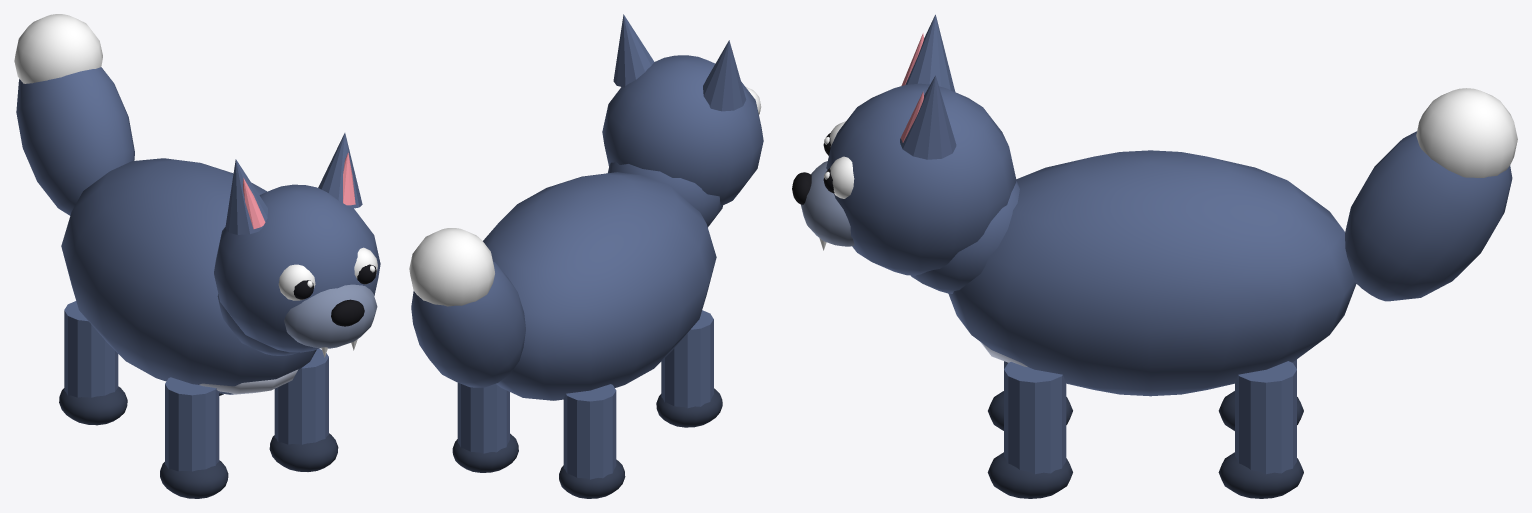
The picture shows the model from 3 angles, left to right: view 1: azimuth 30°, elevation 25°; view 2: azimuth 150°, elevation 25°; view 3: azimuth 270°, elevation 25°; orthographic projection. The views are drawn at different scales.
Parts seen in each view (by area): view 1: Astro Wolf; view 2: Astro Wolf; view 3: Astro Wolf.
Part boxes in pixels (x1,y1,x2,y2): Astro Wolf: (14, 14, 380, 498); Astro Wolf: (409, 14, 763, 498); Astro Wolf: (792, 14, 1517, 498).
Size of the model in its own units: 1.7 by 2.97 by 4.67.
Materials: 1 (1 with a texture image).
